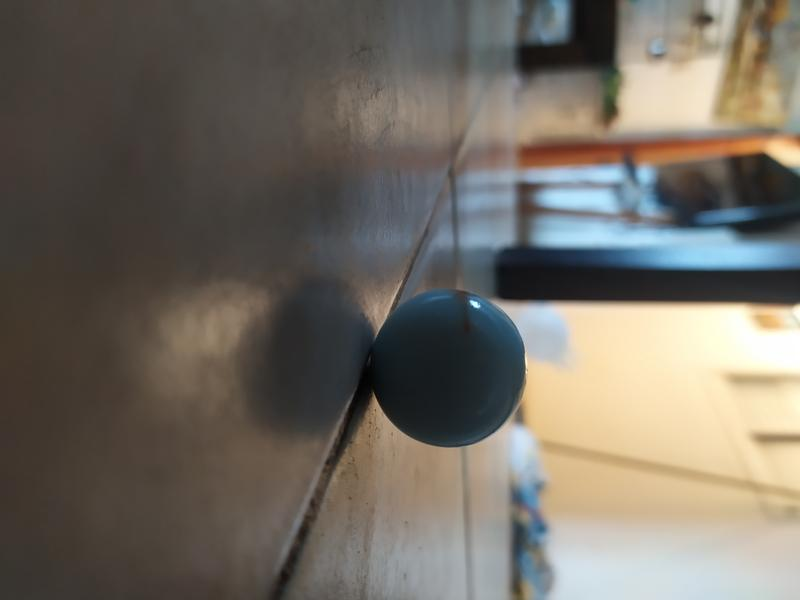Warning: (365, 282, 533, 452)
